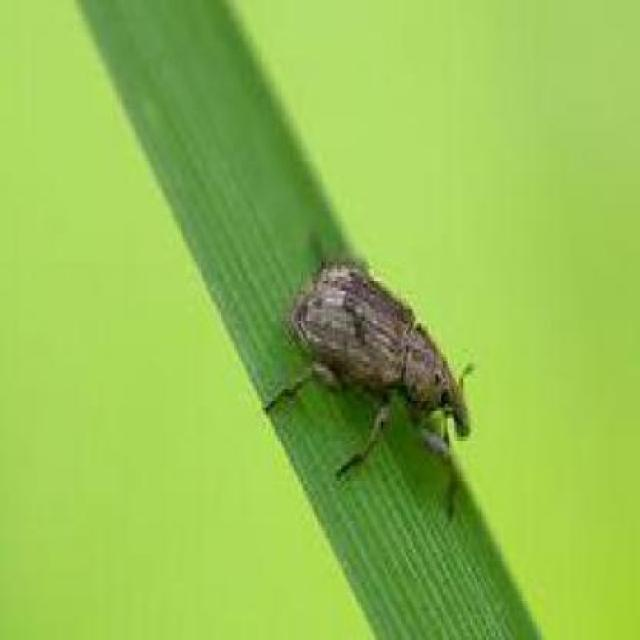rice-bug: (288, 258, 470, 479)
